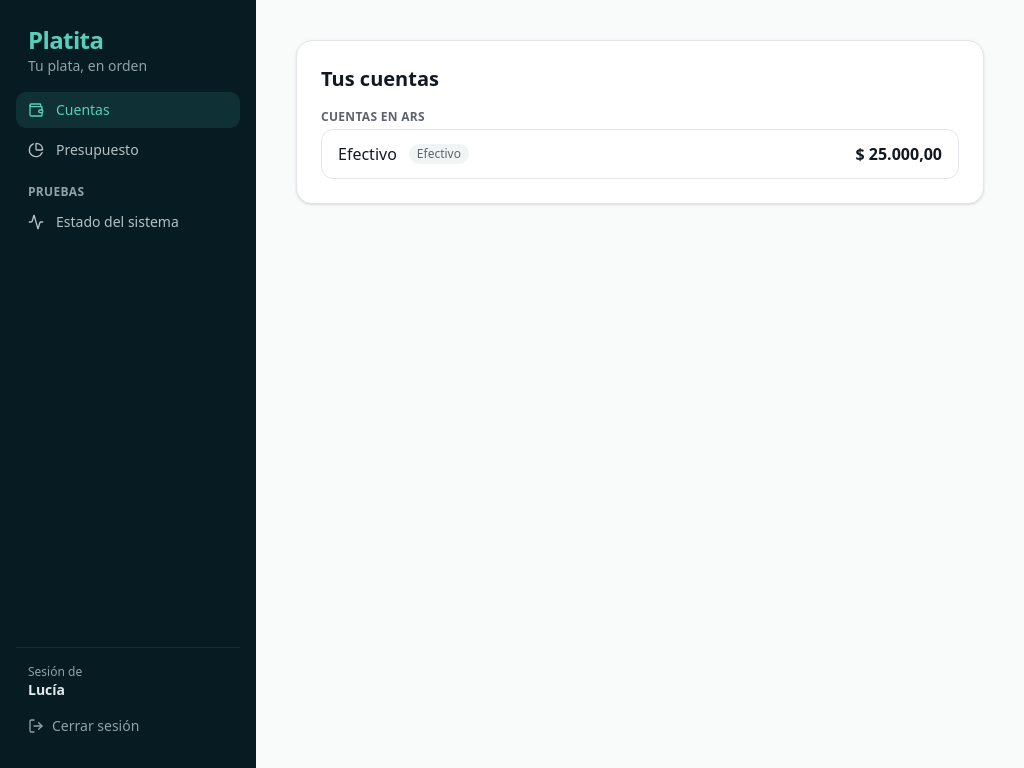
it: case T-03: choosing the status in the menu shows it and marks it as the current screen
This screenshot has width=1024, height=768.
Expected: the heading "Tus cuentas" is shown, [321,65,439,92]
Click the button "Estado del sistema".
click(128, 222)  # box [16,204,240,240]
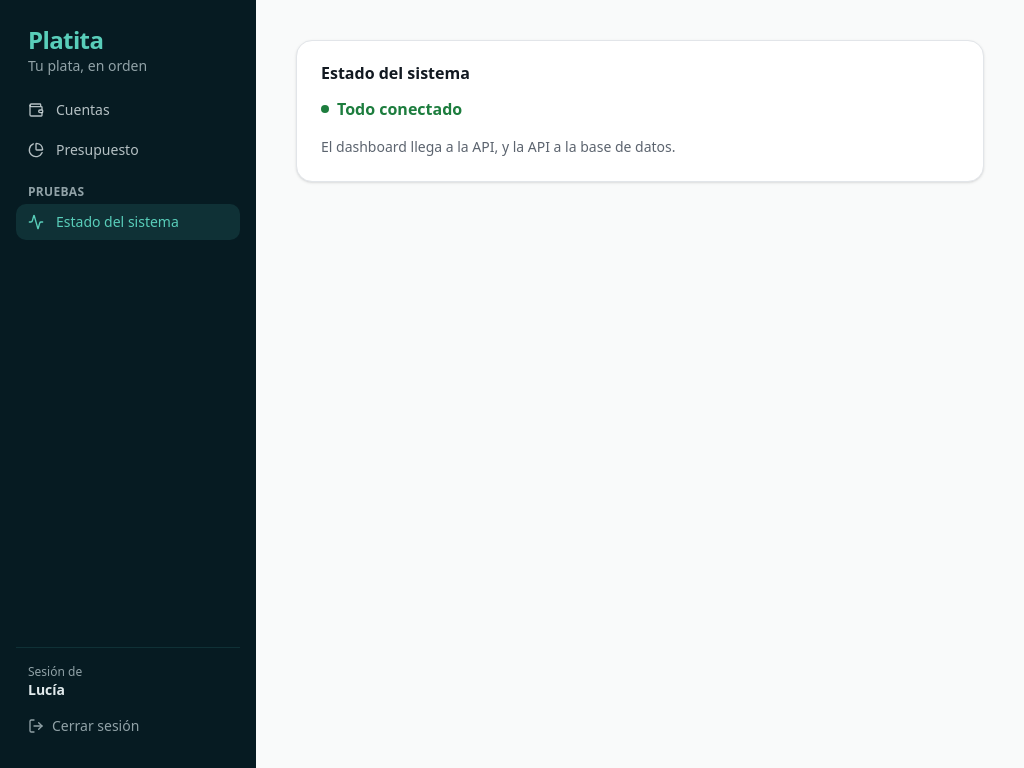
Now the heading "Estado del sistema" is shown, box [321,62,470,84]
Now the heading "Tus cuentas" is gone
